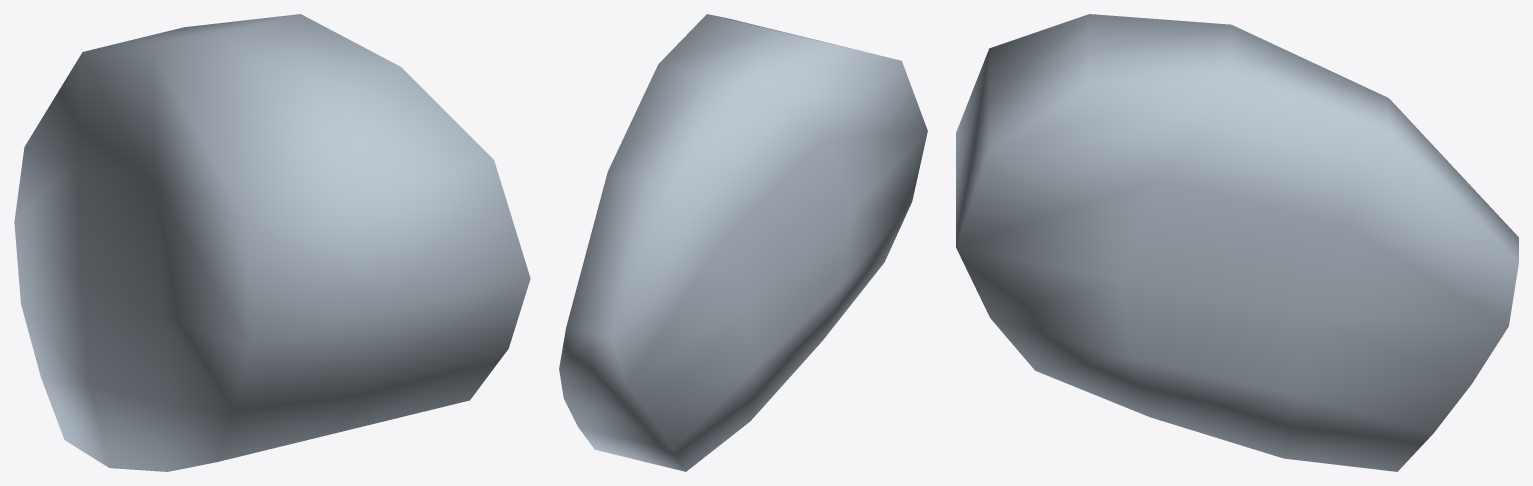
File: interpubic-disc.glb
The picture shows the model from 3 angles, left to right: view 1: azimuth 30°, elevation 25°; view 2: azimuth 150°, elevation 25°; view 3: azimuth 270°, elevation 25°; orthographic projection. The views are drawn at different scales.
Parts seen in each view (by area): view 1: Interpubic disc; view 2: Interpubic disc; view 3: Interpubic disc.
Boxes of the visible parts, left/top/right/bottom form: Interpubic disc: left=14, top=14, right=530, bottom=471; Interpubic disc: left=559, top=14, right=927, bottom=471; Interpubic disc: left=956, top=14, right=1518, bottom=471.
Bounding box in the file's own units: 0.00934 × 0.015 × 0.0193.
